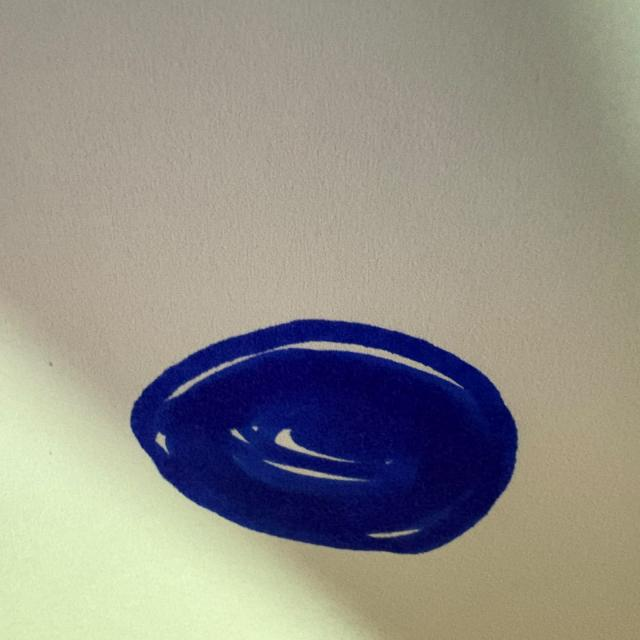Circle: (122, 312, 538, 558)
